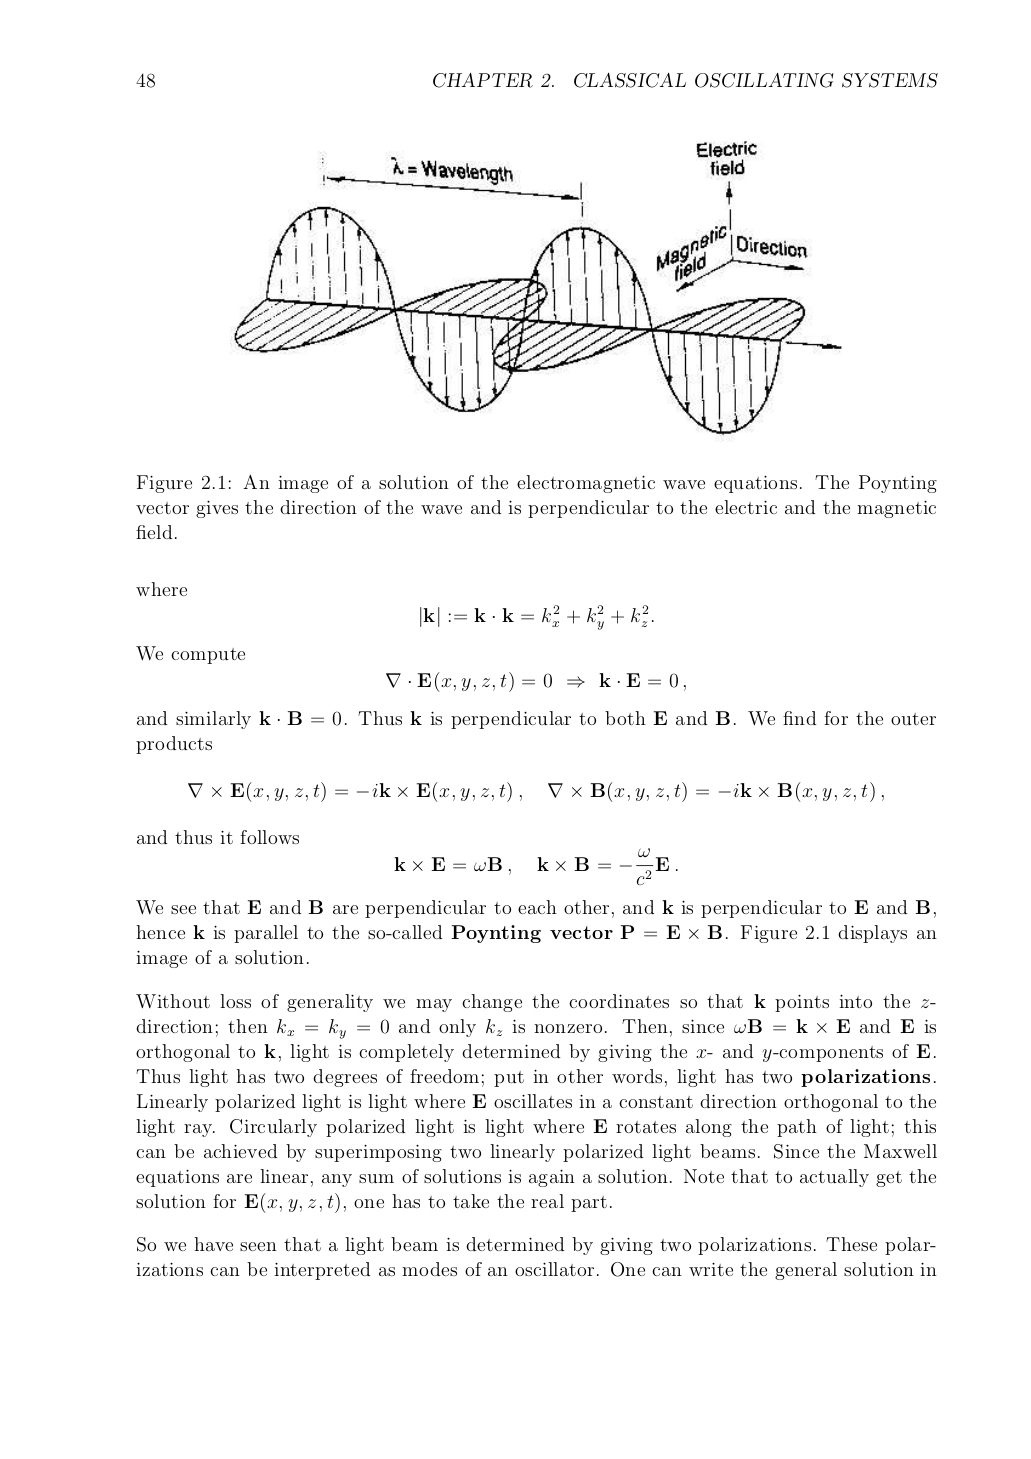figure: (230, 141, 841, 436)
formula: (187, 781, 883, 802), (394, 847, 677, 886), (420, 603, 653, 630), (386, 671, 685, 692)
